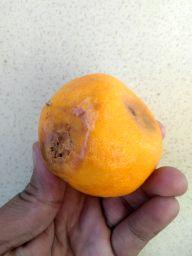Unripe: (38, 74, 163, 198)
